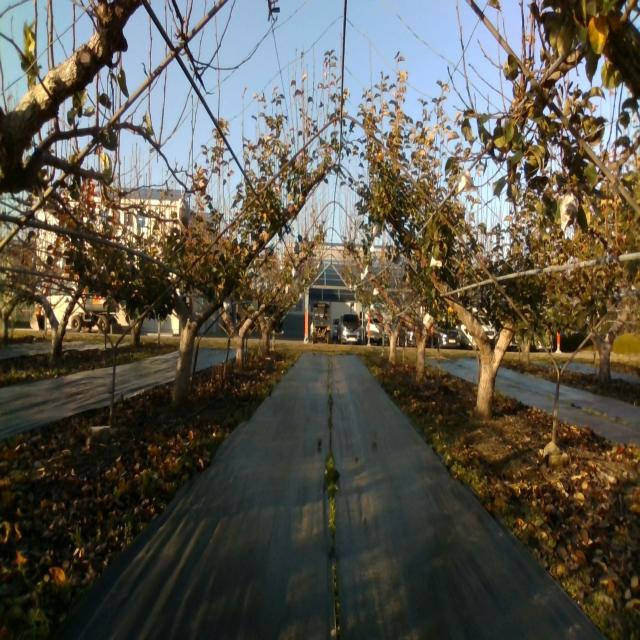pearbags: (560, 188, 580, 234), (178, 188, 190, 229), (458, 170, 475, 196)
